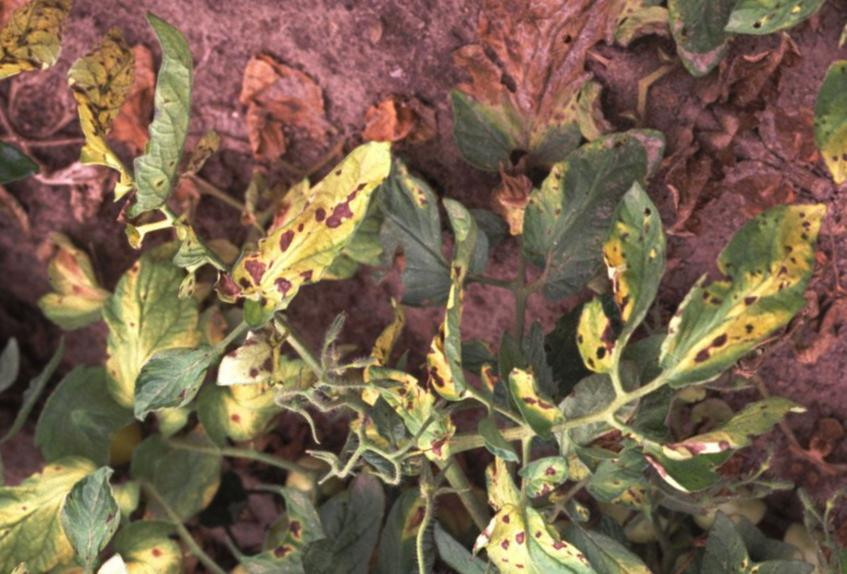Tomato Early blight leaf: (196, 100, 401, 347), (629, 179, 826, 413), (532, 173, 710, 383), (422, 458, 695, 574), (31, 7, 181, 179)
